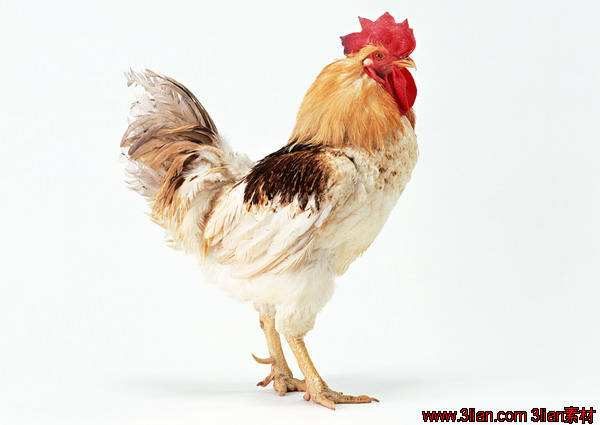chicken: (98, 3, 449, 412)
